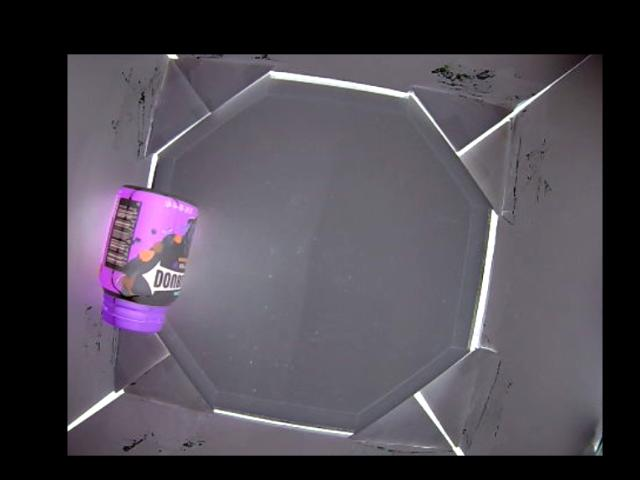Bottle: (96, 183, 200, 339)
